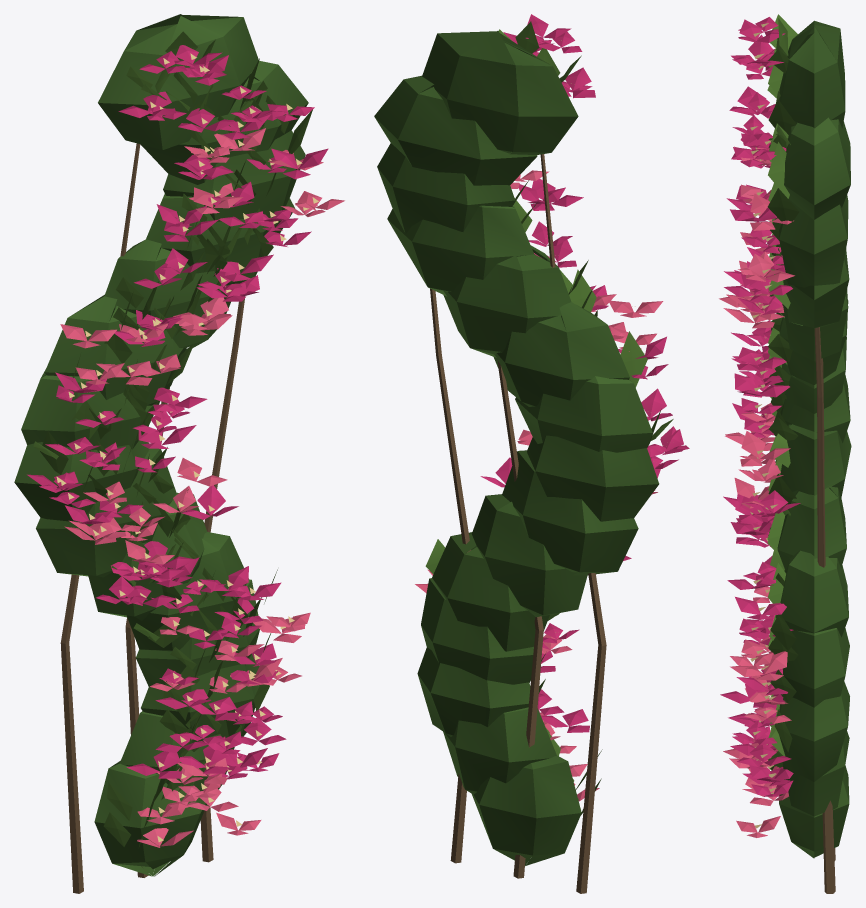
File: flowering-vine.glb
The picture shows the model from 3 angles, left to right: view 1: azimuth 30°, elevation 25°; view 2: azimuth 150°, elevation 25°; view 3: azimuth 270°, elevation 25°; orthographic projection. The views are drawn at different scales.
Visible parts, largest first — view 1: flowering-vine; view 2: flowering-vine; view 3: flowering-vine.
Boxes of the visible parts, left/top/right/bottom form: flowering-vine: left=14, top=14, right=344, bottom=893; flowering-vine: left=374, top=14, right=689, bottom=893; flowering-vine: left=719, top=14, right=851, bottom=893.
Bounding box in the file's own units: 1.73 × 4.7 × 0.6661.
